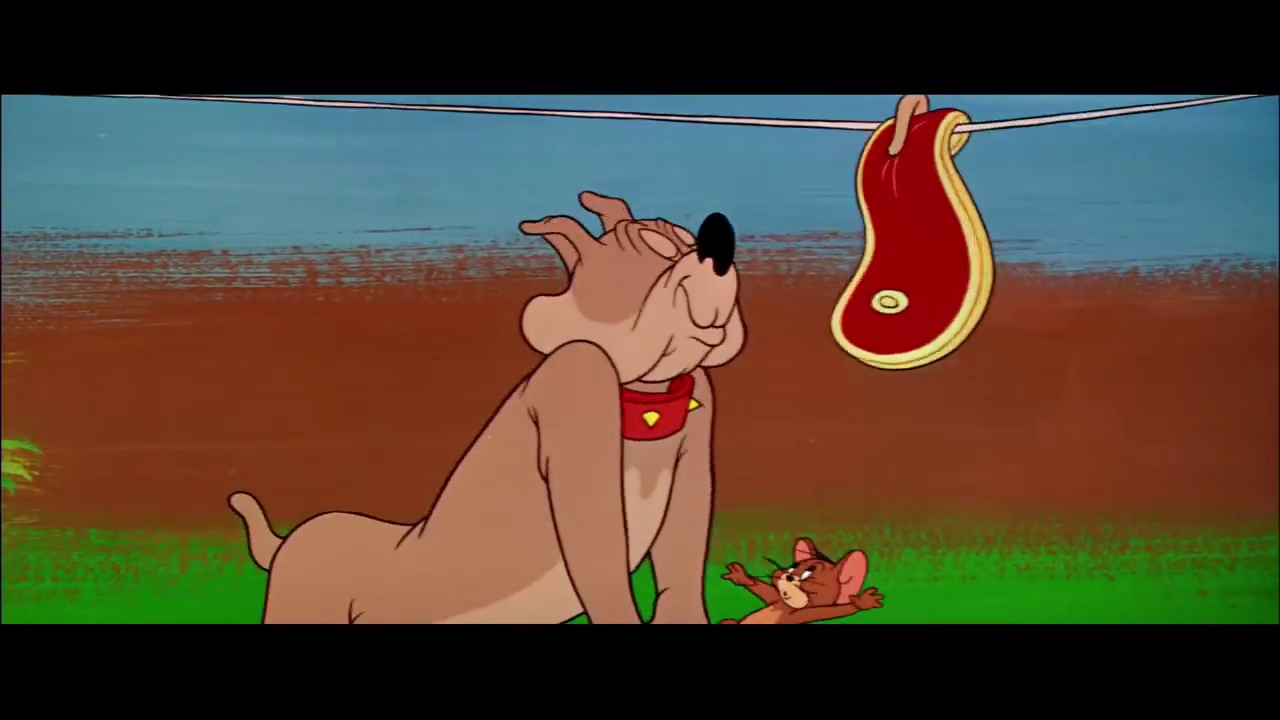spike: (515, 189, 749, 443)
